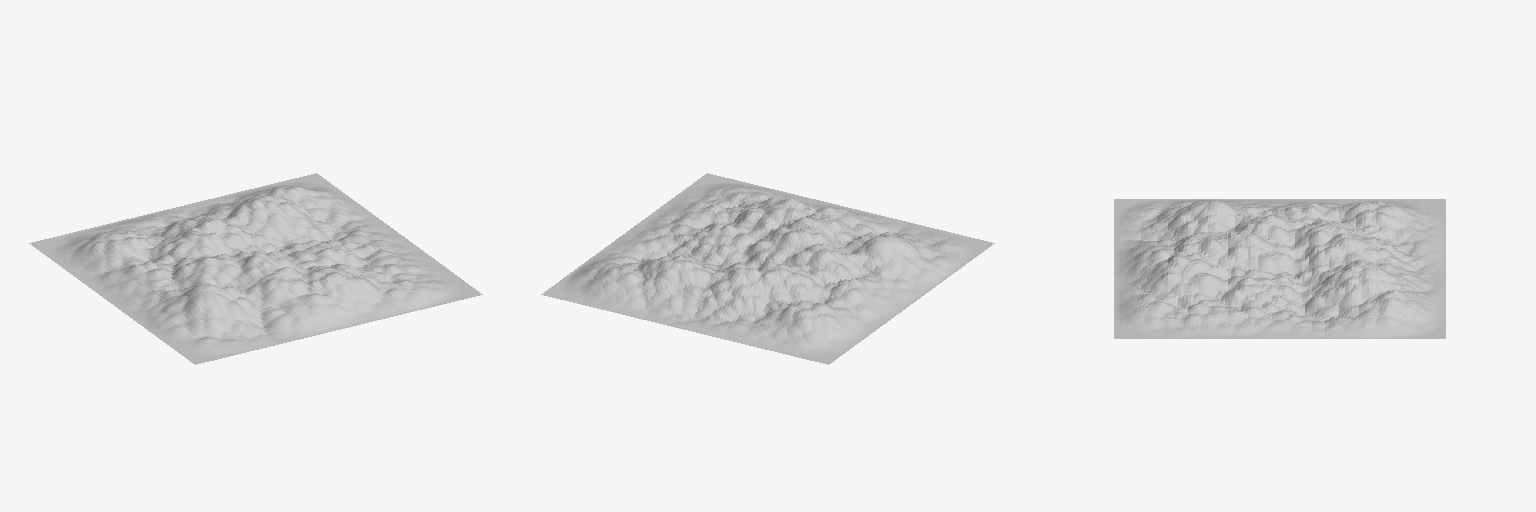
Rendered from testterrrain.obj.
3 renders of one model, left to right at view 1: azimuth 30°, elevation 25°; view 2: azimuth 150°, elevation 25°; view 3: azimuth 270°, elevation 25°, orthographic.
Parts seen in each view (by area): view 1: Landscape.001; view 2: Landscape.001; view 3: Landscape.001.
Boxes of the visible parts, x1,y1,x2,y2 form: Landscape.001: [29, 173, 482, 364]; Landscape.001: [541, 173, 994, 364]; Landscape.001: [1114, 199, 1445, 338].
Bounding box in the file's own units: 2 × 0.2136 × 2.